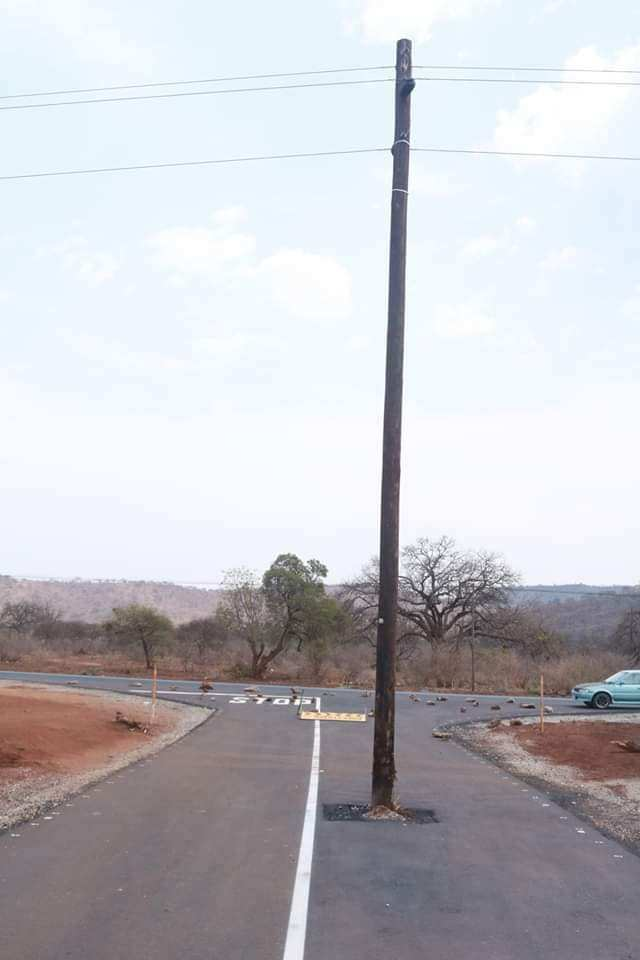car: (545, 654, 640, 721)
pole: (348, 30, 440, 833)
